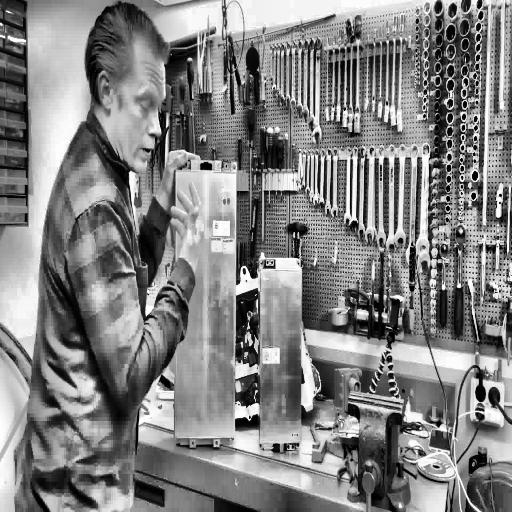battery_module: (176, 172, 236, 439), (260, 270, 302, 443)
